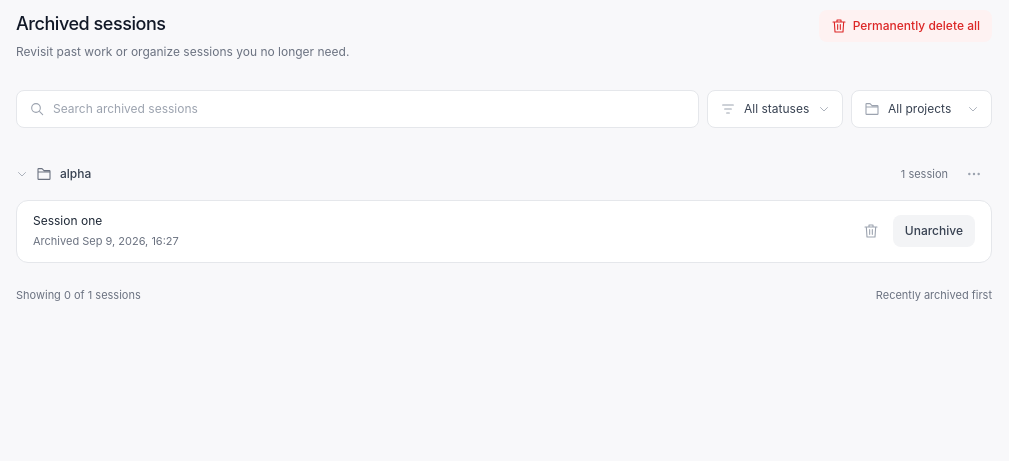
archived session management › unarchives a whole session, offers its history link, and undoes the change
The width and height of the screenshot is (1009, 461).
Click the button with aria-label "Unarchive Session one" at (934, 231), box x1=893 y1=215 x2=975 y2=247
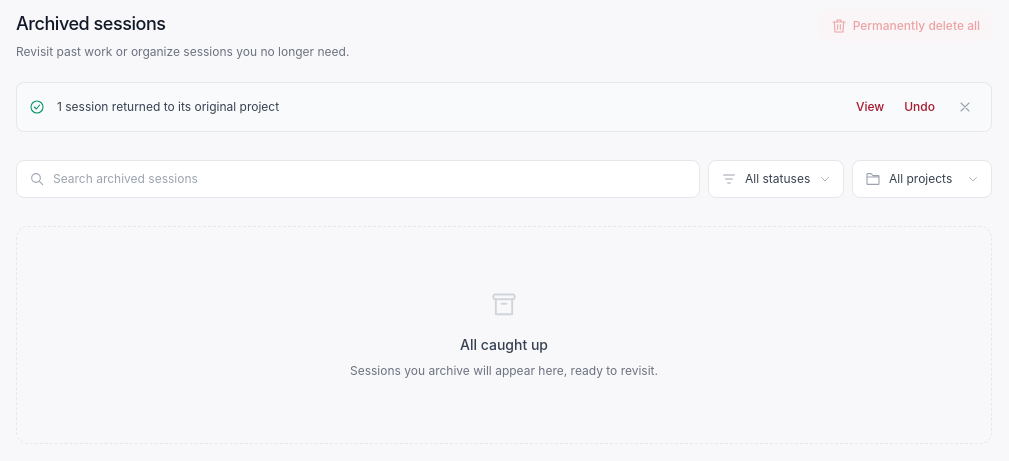
Check: the text "1 session returned to its original project" is shown, box x1=57 y1=99 x2=279 y2=114
Check: the link "Session one" is gone
Check: the button "Undo" is enabled
Click the button "Undo" at (920, 107), box x1=900 y1=95 x2=939 y2=119
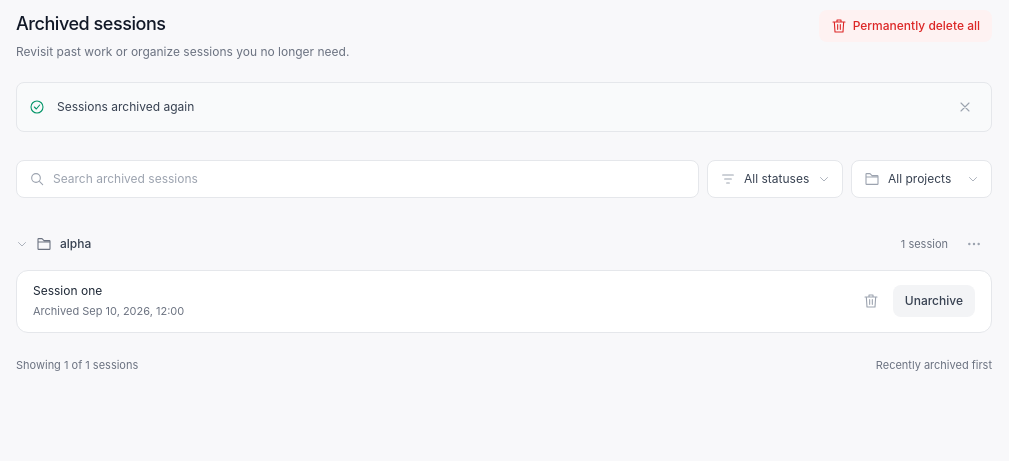
Check: the link "Session one Archived Sep 10, 2026, 12:00" is shown, box x1=32 y1=283 x2=184 y2=326
